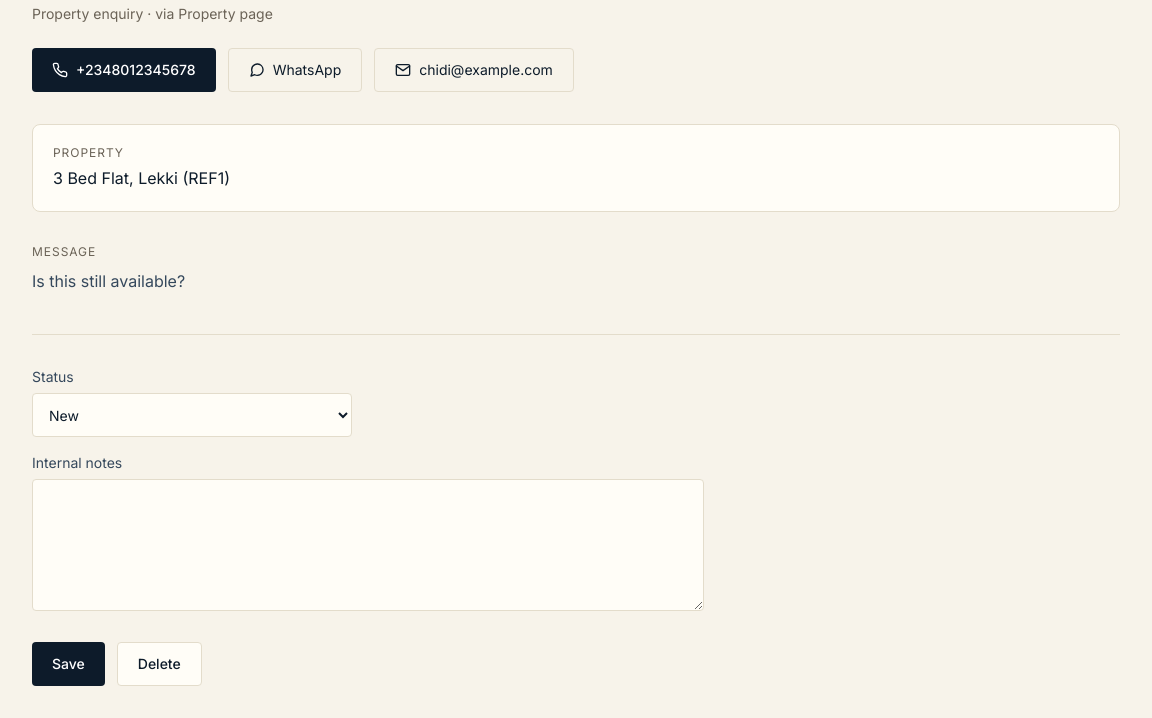
Test: EnquiryDetail › warns that deletion is permanent before deleting
(page scrolled)
Click the button "Delete" at (159, 664), box [117,642,202,686]
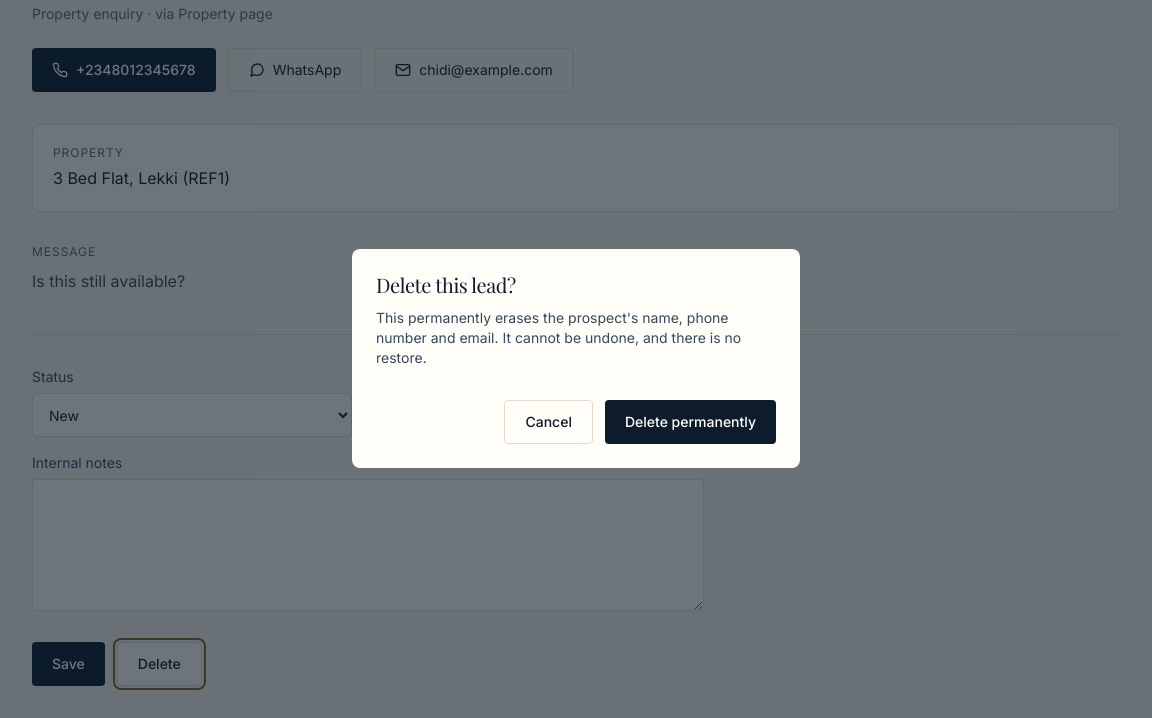
Now the text "cannot be undone, and there is no restore" is shown, box [376,308,741,366]
